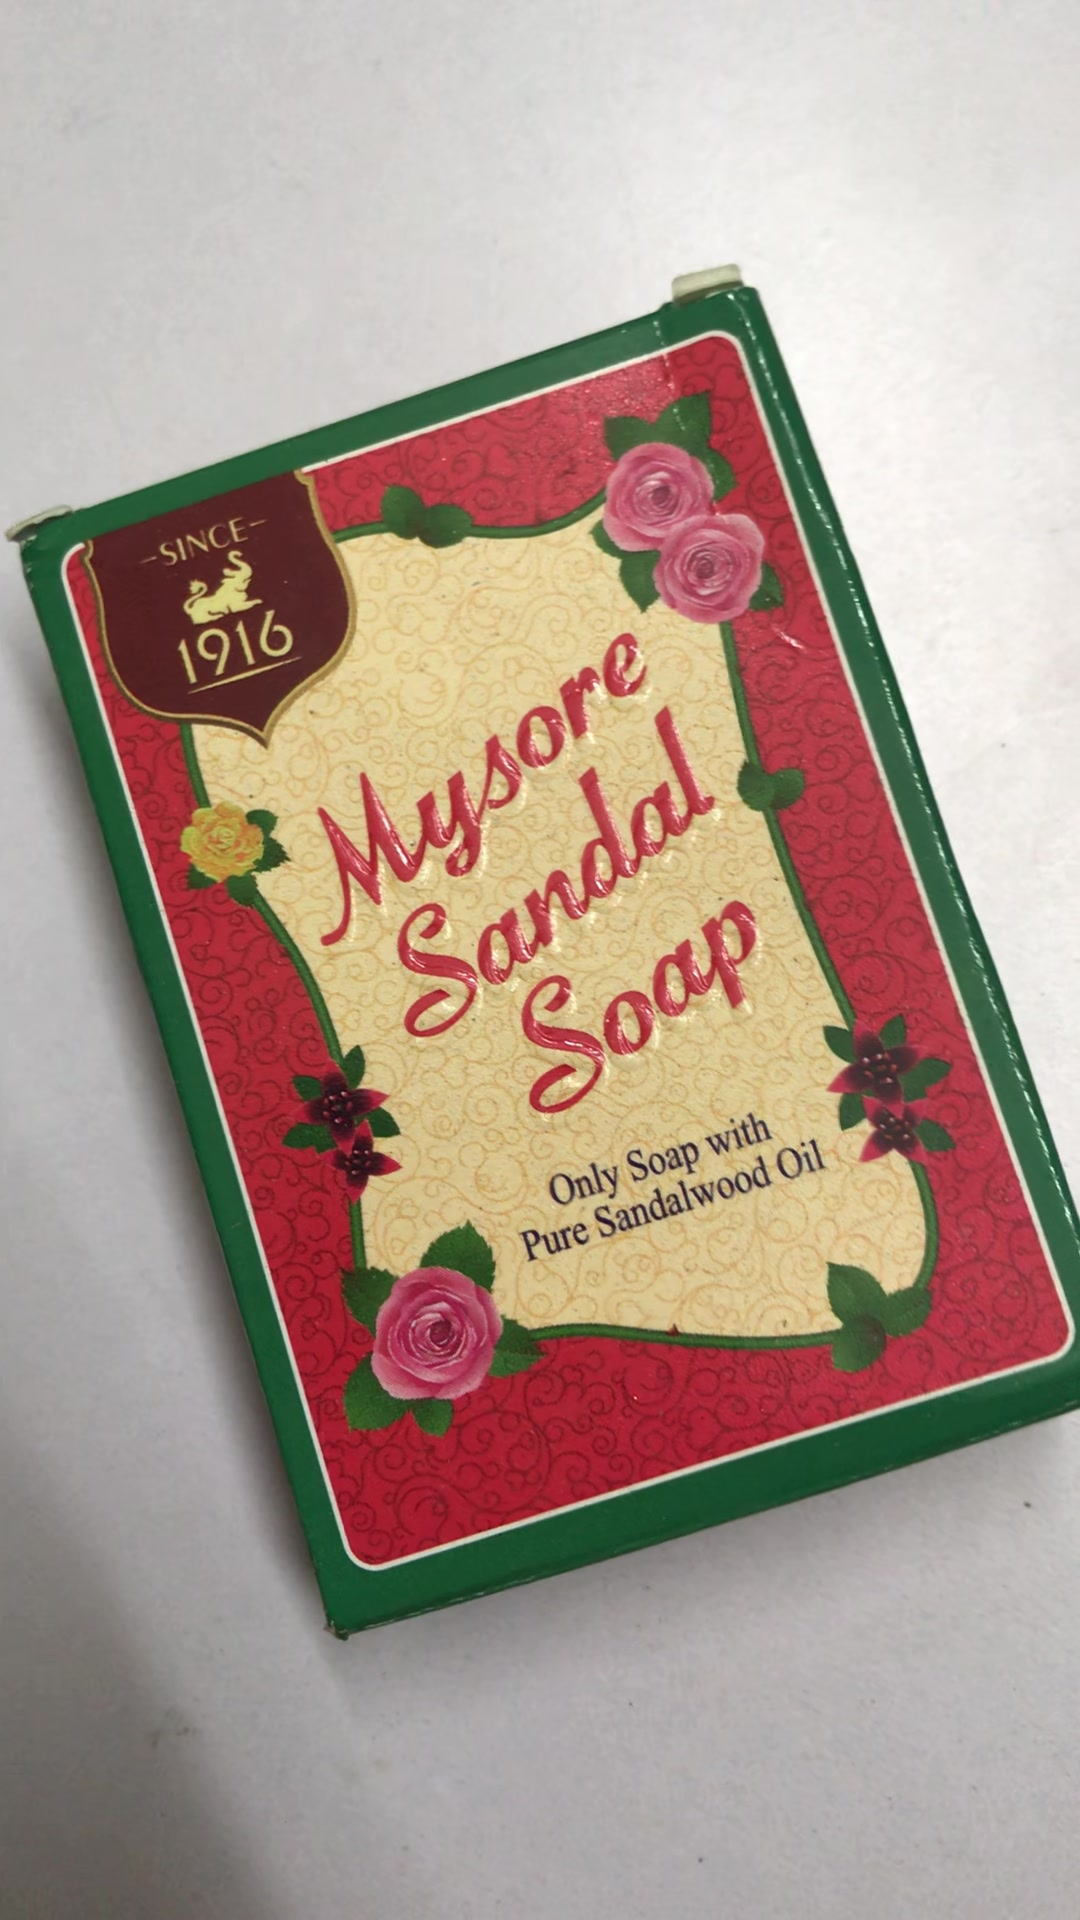mysore sandal soap: (18, 287, 1080, 1635)
